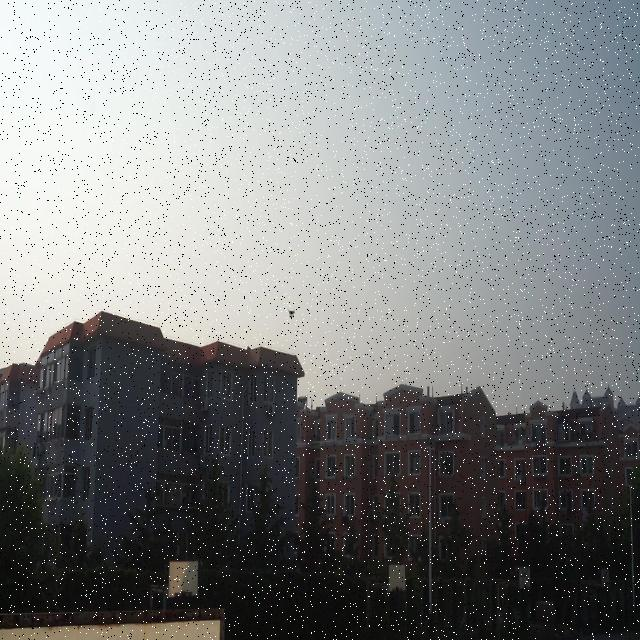UAV: (287, 309, 295, 318)
